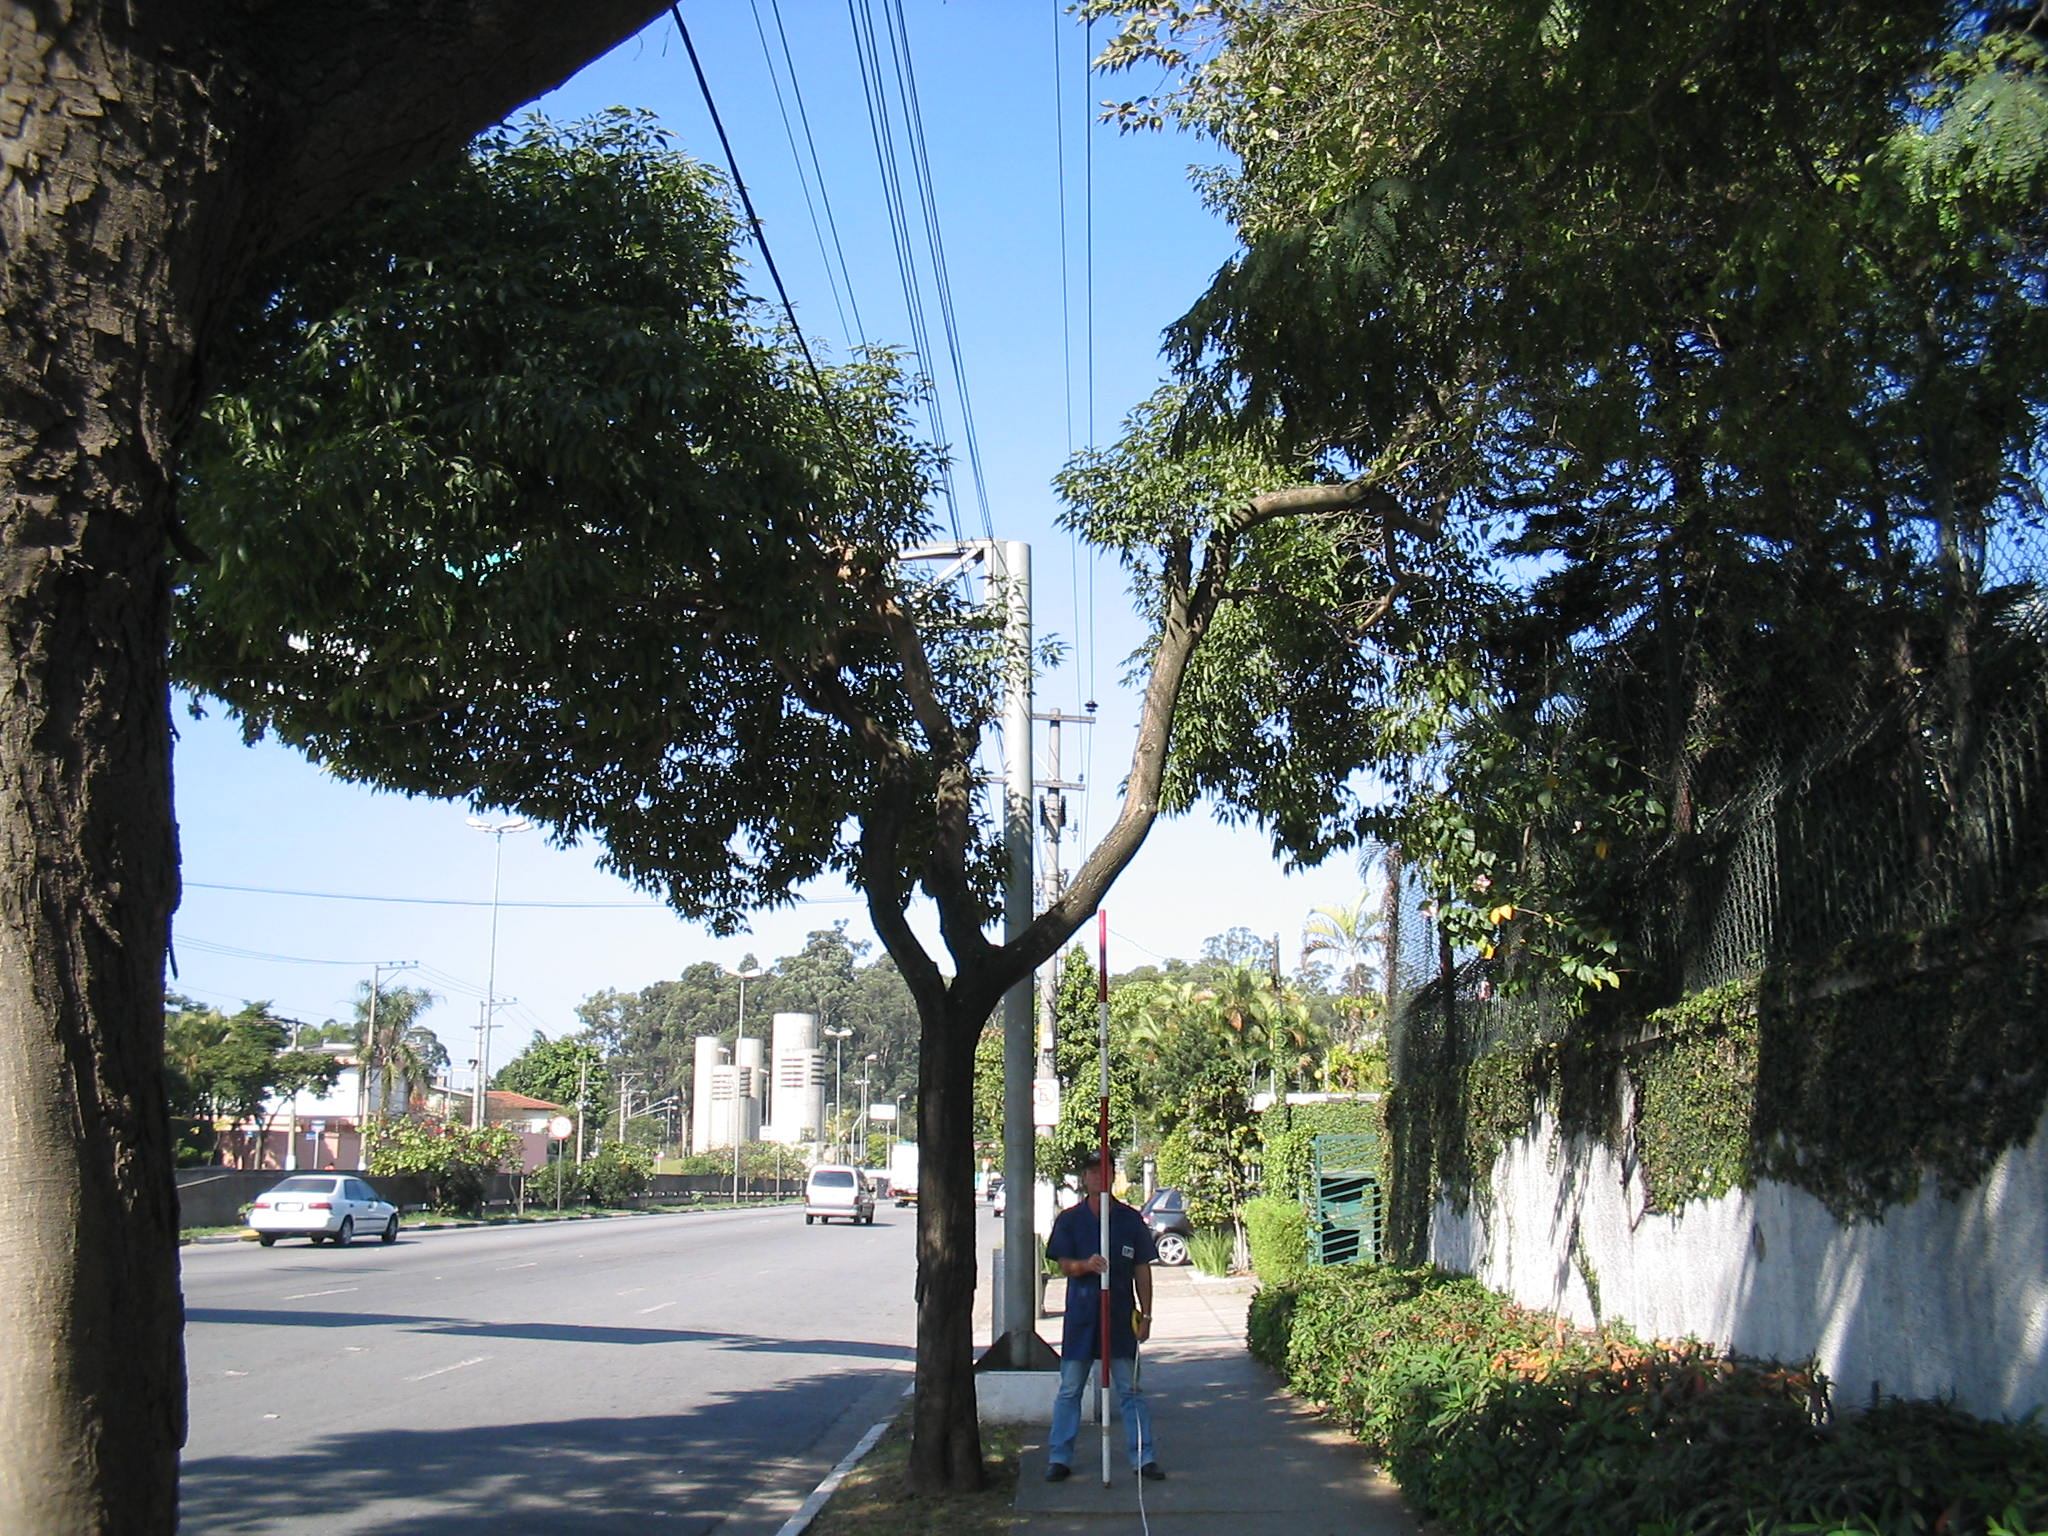crown: (181, 113, 1646, 989)
stem: (871, 991, 1027, 1489)
stick: (1082, 907, 1121, 1484)
tree: (168, 110, 1651, 1489)
